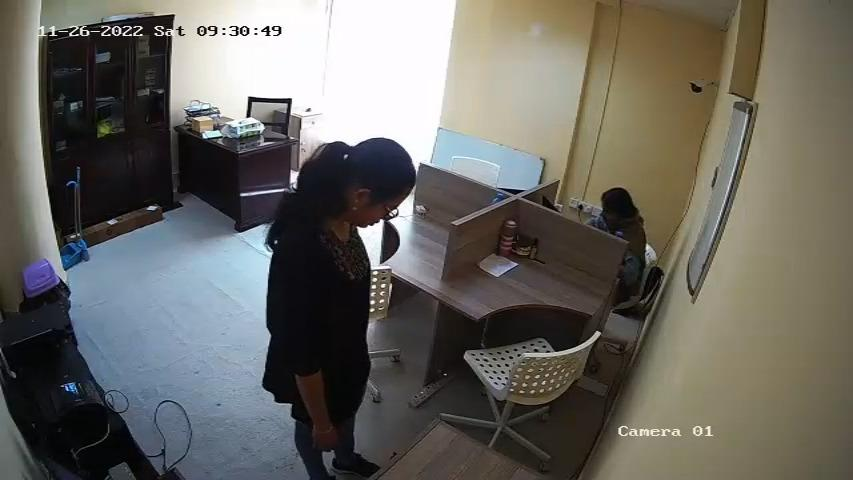no_apron: (315, 238, 371, 391)
